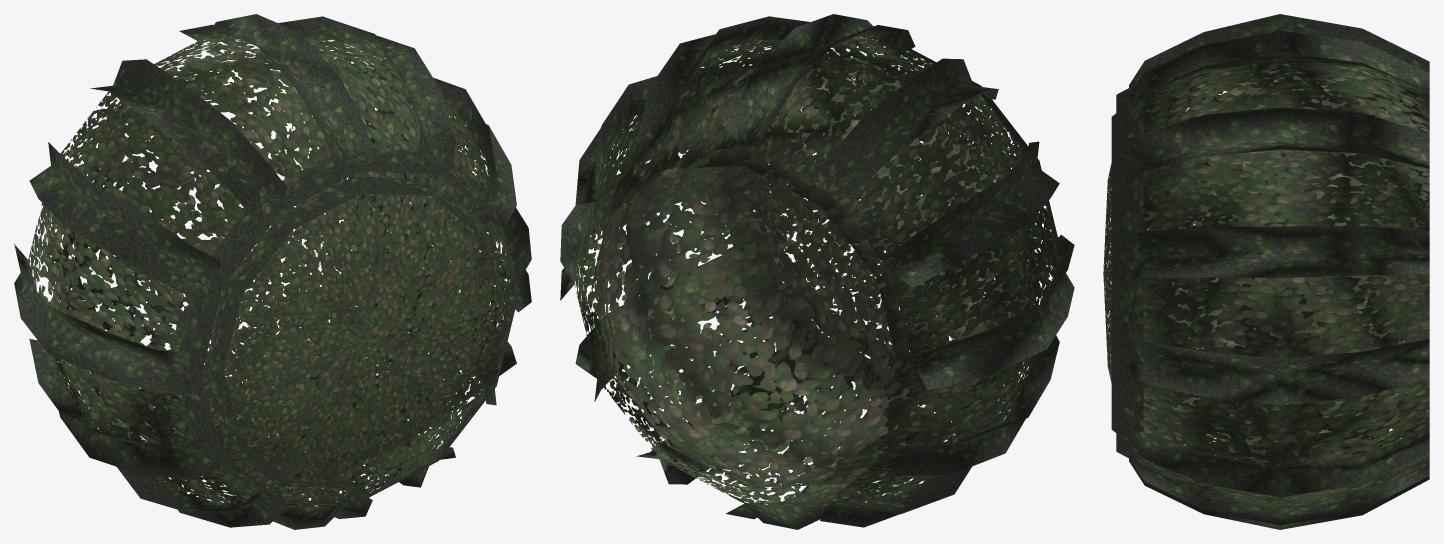
File: nt_2020_foliage_hedge_sphere_LOD0.obj
The picture shows the model from 3 angles, left to right: view 1: azimuth 30°, elevation 25°; view 2: azimuth 150°, elevation 25°; view 3: azimuth 270°, elevation 25°; orthographic projection. The views are drawn at different scales.
Parts seen in each view (by area): view 1: mtl_p6_foliage_hedge2, mtl_p6_foliage_hedge_edge, mtl_p6_foliage_hedge_no_alpha; view 2: mtl_p6_foliage_hedge_no_alpha, mtl_p6_foliage_hedge2, mtl_p6_foliage_hedge_edge; view 3: mtl_p6_foliage_hedge_edge, mtl_p6_foliage_hedge2, mtl_p6_foliage_hedge_no_alpha.
Boxes of the visible parts, left/top/right/bottom form: mtl_p6_foliage_hedge2: left=28, top=36, right=515, bottom=506; mtl_p6_foliage_hedge_edge: left=14, top=14, right=531, bottom=529; mtl_p6_foliage_hedge_no_alpha: left=46, top=57, right=494, bottom=483; mtl_p6_foliage_hedge_no_alpha: left=591, top=57, right=1036, bottom=486; mtl_p6_foliage_hedge2: left=574, top=37, right=1059, bottom=507; mtl_p6_foliage_hedge_edge: left=560, top=14, right=1074, bottom=529; mtl_p6_foliage_hedge_edge: left=1111, top=14, right=1429, bottom=529; mtl_p6_foliage_hedge2: left=1103, top=59, right=1429, bottom=508; mtl_p6_foliage_hedge_no_alpha: left=1143, top=60, right=1429, bottom=465.
Bounding box in the file's own units: 145 × 142 × 90.94.
